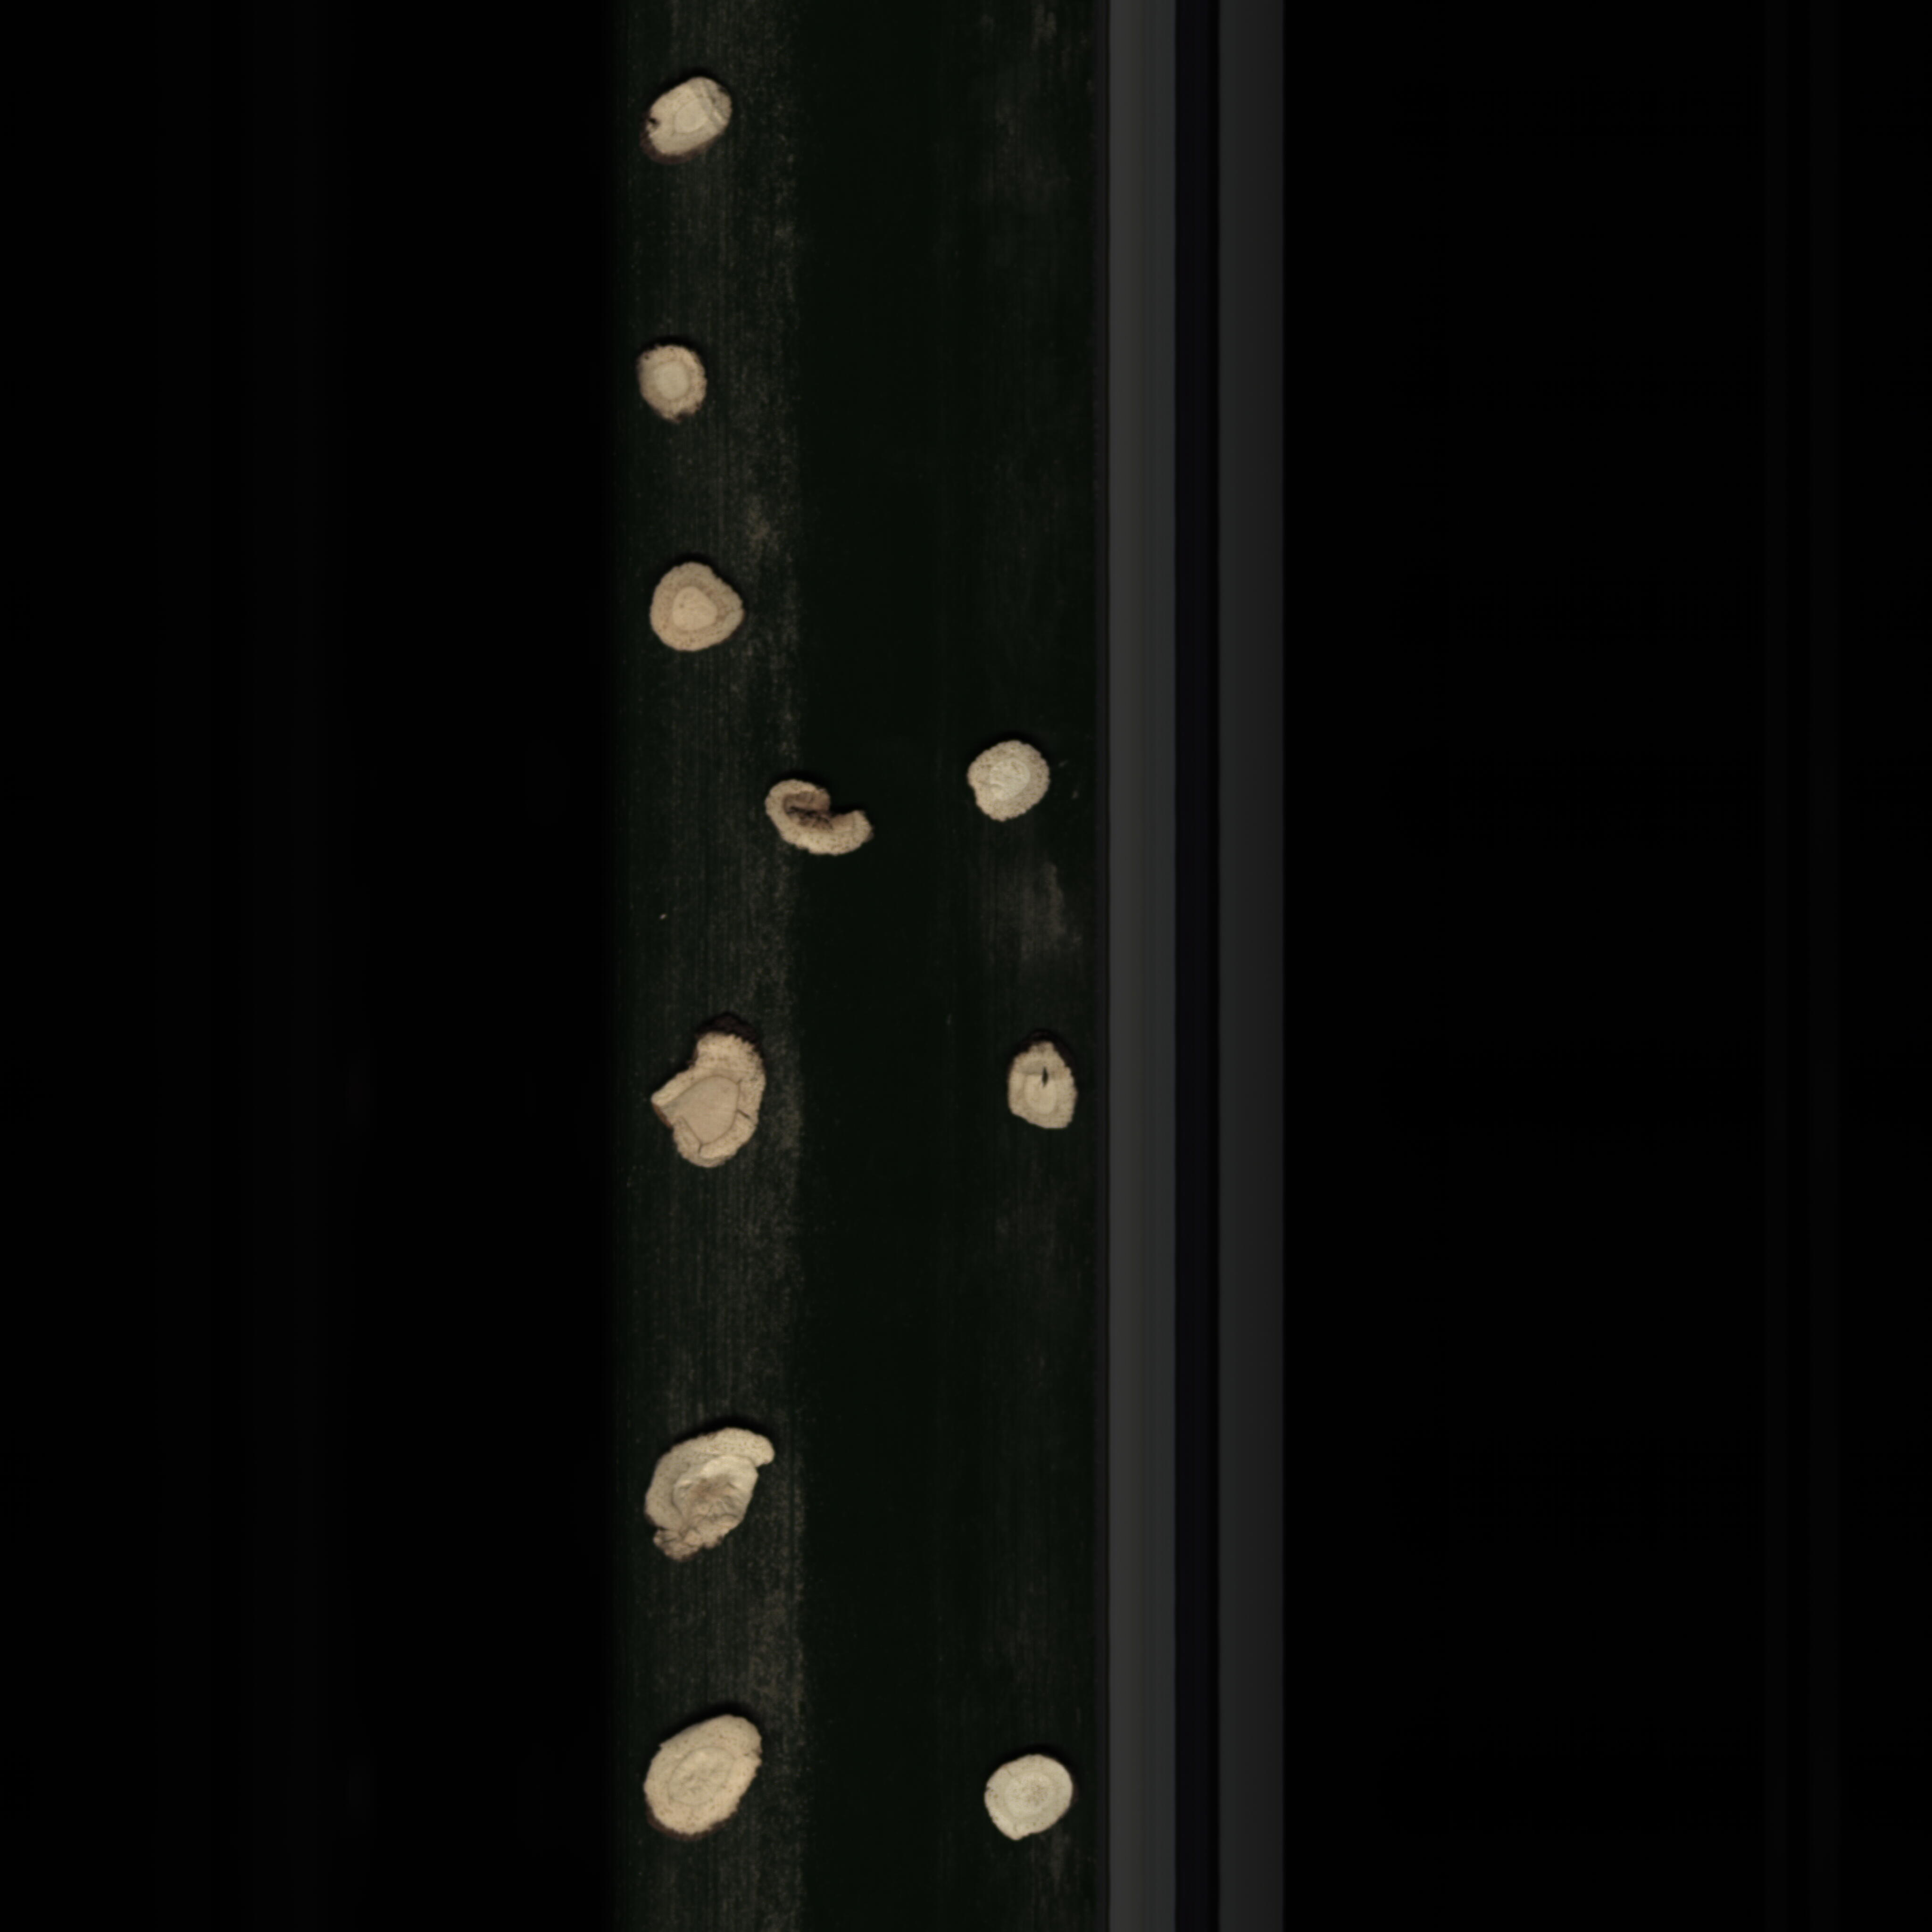debris: (637, 1417, 787, 1573), (642, 1017, 778, 1182)
hole: (996, 1035, 1081, 1146)
moldy: (759, 770, 892, 862)
